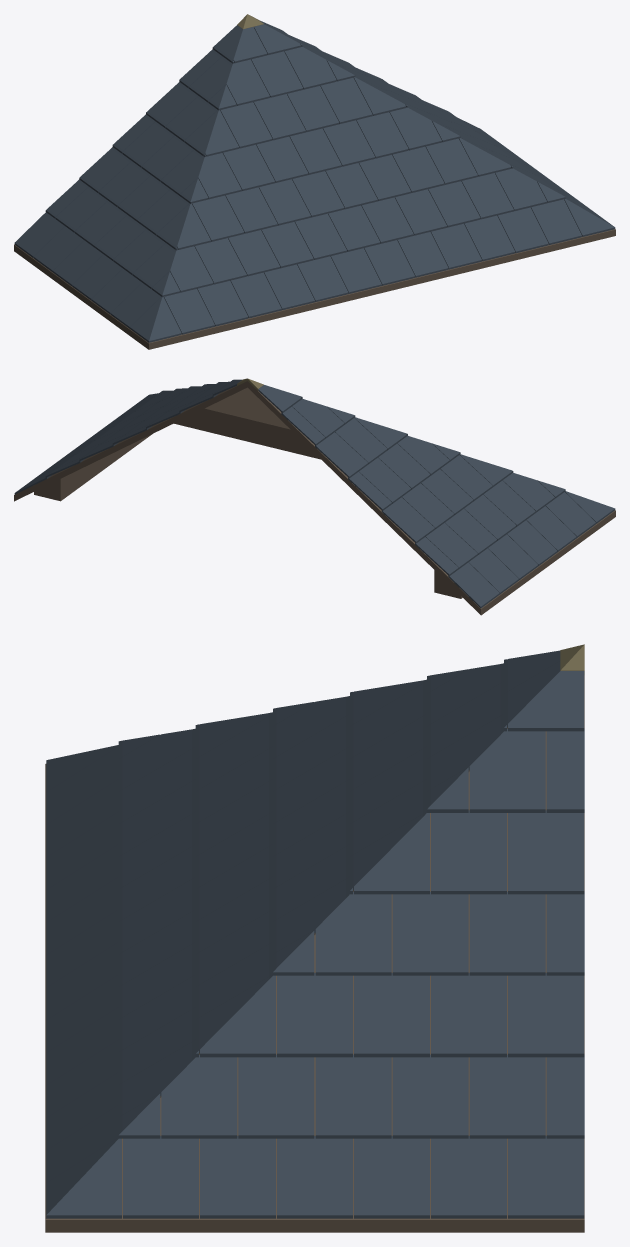
Rendered from rpg-mansion-slate-gable-hipped-end-01.glb.
3 views of the same model, one above another, from view 1: azimuth 30°, elevation 25°; view 2: azimuth 150°, elevation 25°; view 3: azimuth 270°, elevation 25° (orthographic). The views are drawn at different scales.
Parts seen in each view (by area): view 1: rpg-mansion-slate-gable-hipped-end-01; view 2: rpg-mansion-slate-gable-hipped-end-01; view 3: rpg-mansion-slate-gable-hipped-end-01.
Part boxes in pixels (<box>): rpg-mansion-slate-gable-hipped-end-01: <box>14,14,615,349</box>; rpg-mansion-slate-gable-hipped-end-01: <box>14,378,615,615</box>; rpg-mansion-slate-gable-hipped-end-01: <box>45,644,584,1232</box>.
Size of the model in its own units: 4.2 by 1.55 by 2.1.
